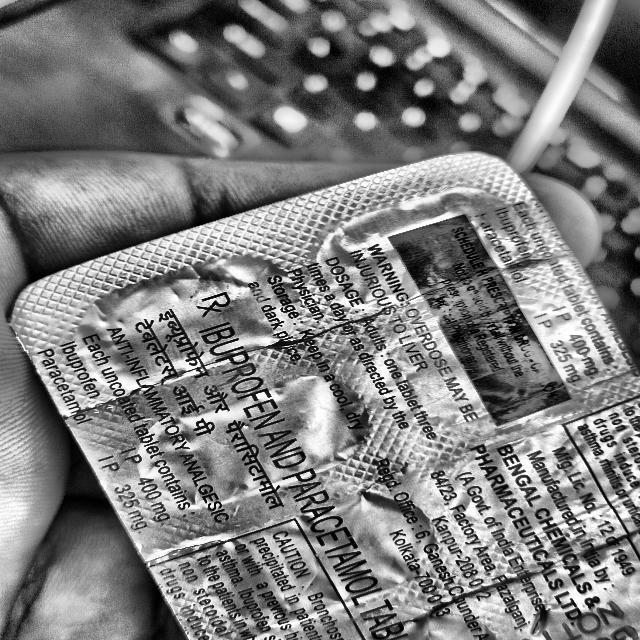IBUPROFEN AND PARACETAMOL TABLETS: (169, 314, 429, 640)
